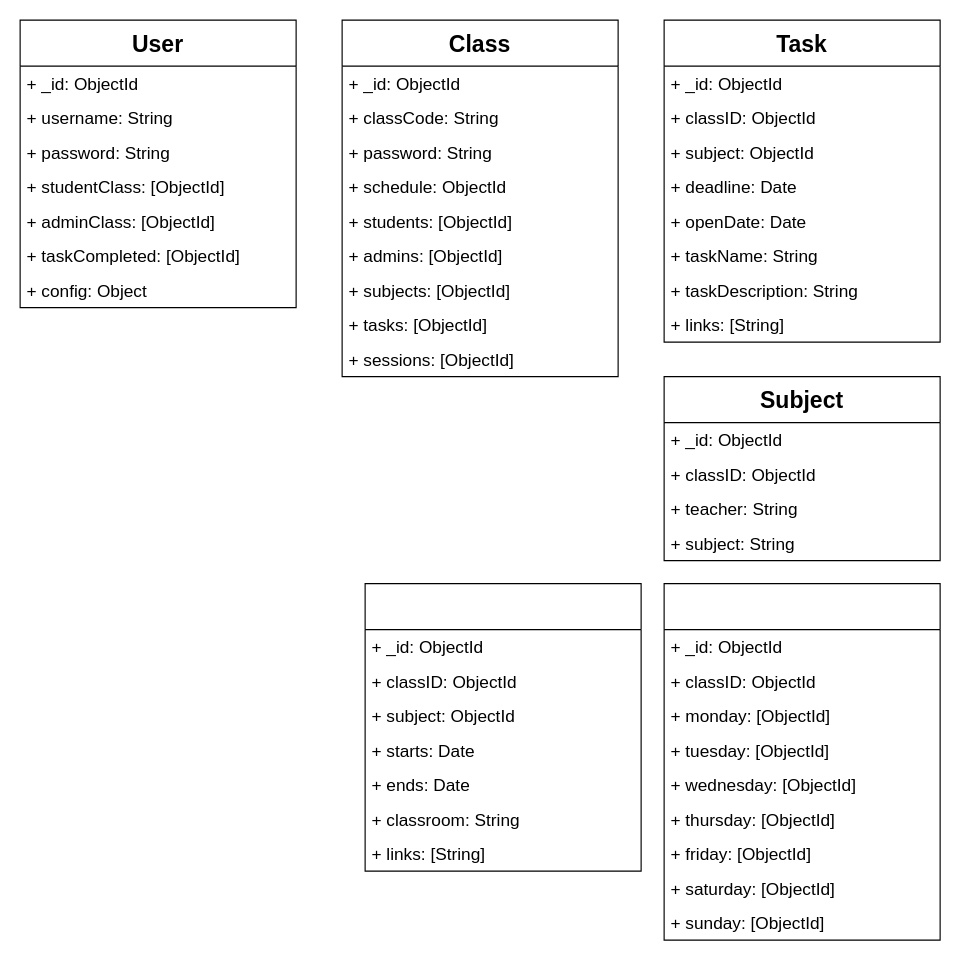
The diagram is 960 pixels wide and 964 high, and some of its shapes have lost their labels. Each missing label, with the box of its shape:
Schedule: (663, 582, 940, 940)
Session: (364, 582, 641, 871)
